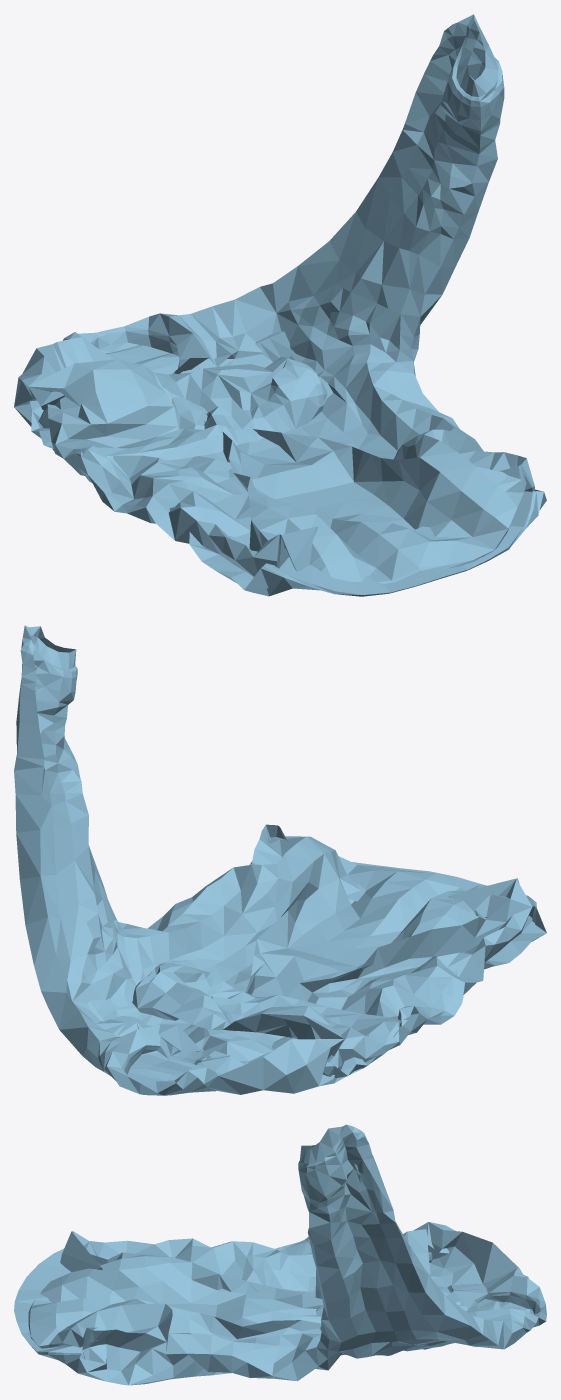
Rendered from frame_08.glb.
The picture shows the model from 3 angles, top to bottom: view 1: azimuth 30°, elevation 25°; view 2: azimuth 150°, elevation 25°; view 3: azimuth 270°, elevation 25°; orthographic projection. The views are drawn at different scales.
Visible parts, largest first — view 1: frame_08.obj; view 2: frame_08.obj; view 3: frame_08.obj.
Part boxes in pixels (box(x1,y1,x2,y2)): frame_08.obj: box(14, 14, 546, 596); frame_08.obj: box(14, 625, 546, 1095); frame_08.obj: box(14, 1124, 546, 1385).
Bounding box in the file's own units: 1.2 × 1.03 × 1.6.
